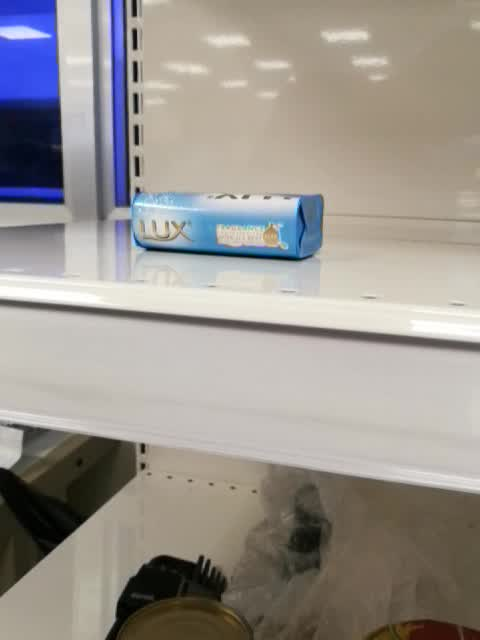soap: (130, 190, 325, 261)
